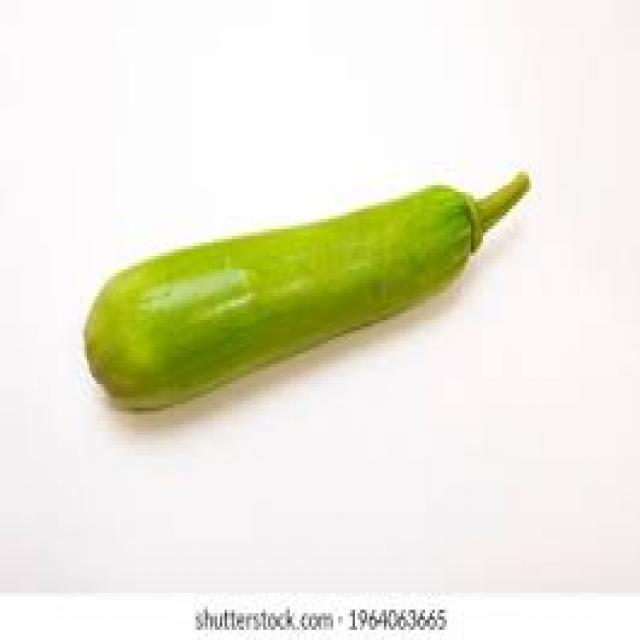zucchini: (65, 142, 551, 485)
